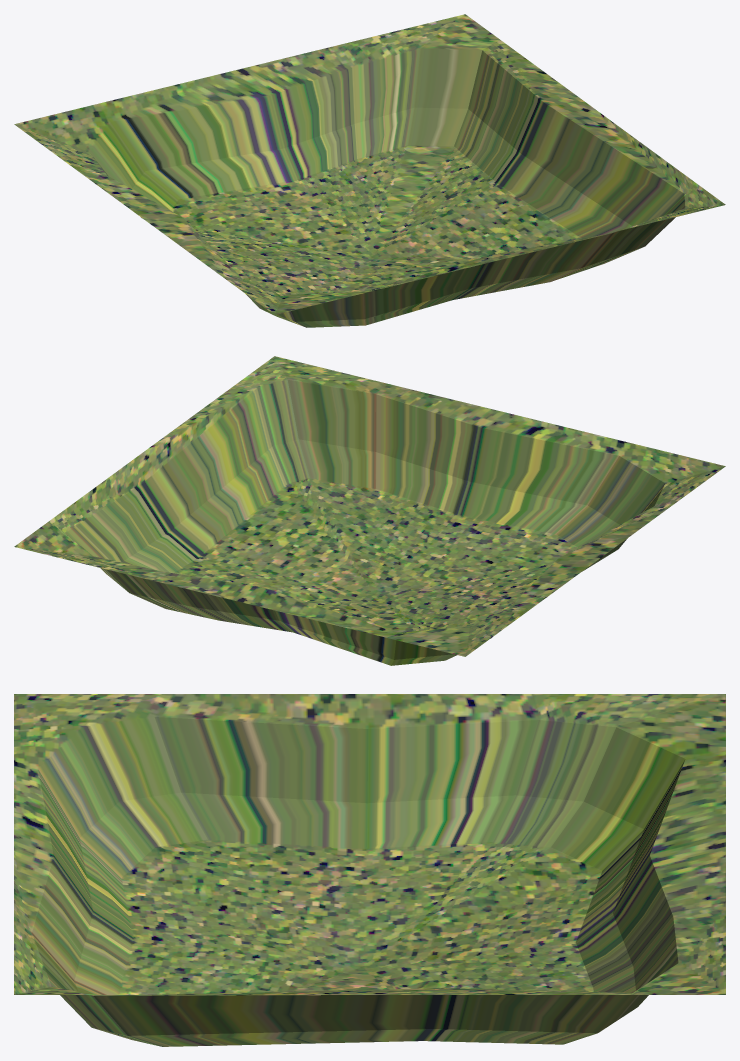
Rendered from Mesh_WaterTile1x1.fbx.
3 views of the same model, one above another, from view 1: azimuth 30°, elevation 25°; view 2: azimuth 150°, elevation 25°; view 3: azimuth 270°, elevation 25° (orthographic). The views are drawn at different scales.
Parts seen in each view (by area): view 1: WaterTile1x1; view 2: WaterTile1x1; view 3: WaterTile1x1.
Part boxes in pixels (box(x1,y1,x2,y2)): WaterTile1x1: box(14, 14, 725, 327); WaterTile1x1: box(14, 356, 725, 665); WaterTile1x1: box(14, 694, 725, 1046).
Bounding box in the file's own units: 10000 × 1907 × 10000.
